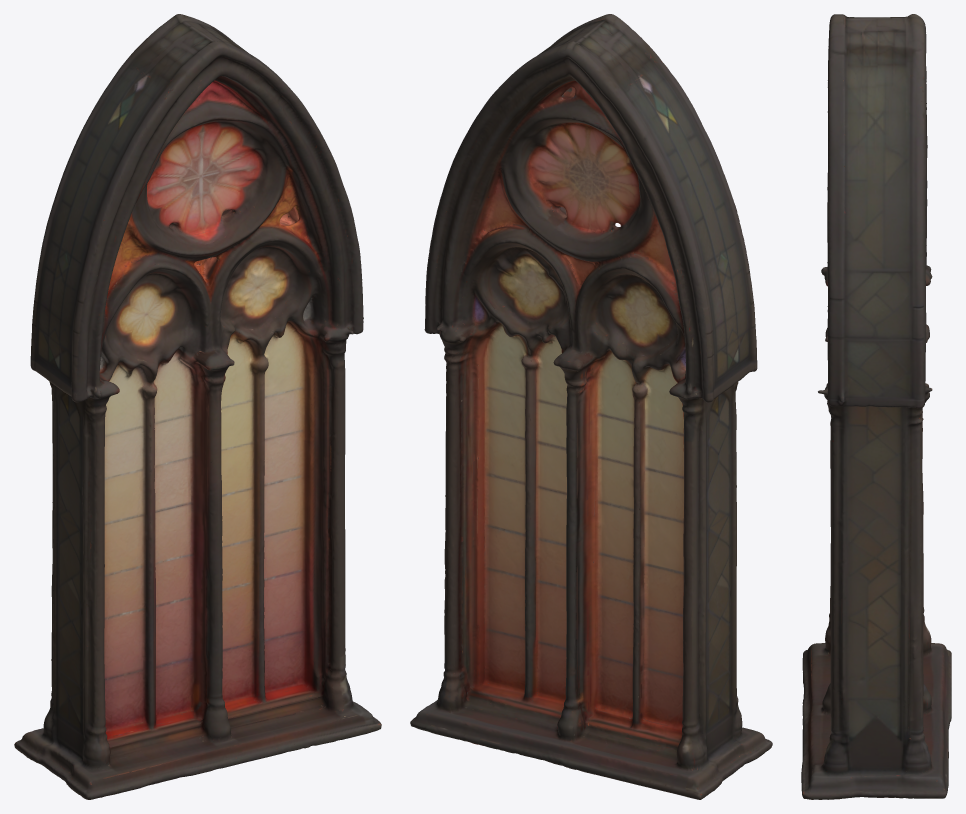
3 renders of one model, left to right at view 1: azimuth 30°, elevation 25°; view 2: azimuth 150°, elevation 25°; view 3: azimuth 270°, elevation 25°, orthographic.
Parts seen in each view (by area): view 1: Mesh_0; view 2: Mesh_0; view 3: Mesh_0.
Part boxes in pixels (x1,y1,x2,y2): Mesh_0: (14, 14, 381, 799); Mesh_0: (410, 14, 772, 799); Mesh_0: (801, 14, 951, 799).
Size of the model in its own units: 87.79 by 201 by 38.31.
1 material, 1 textured.
